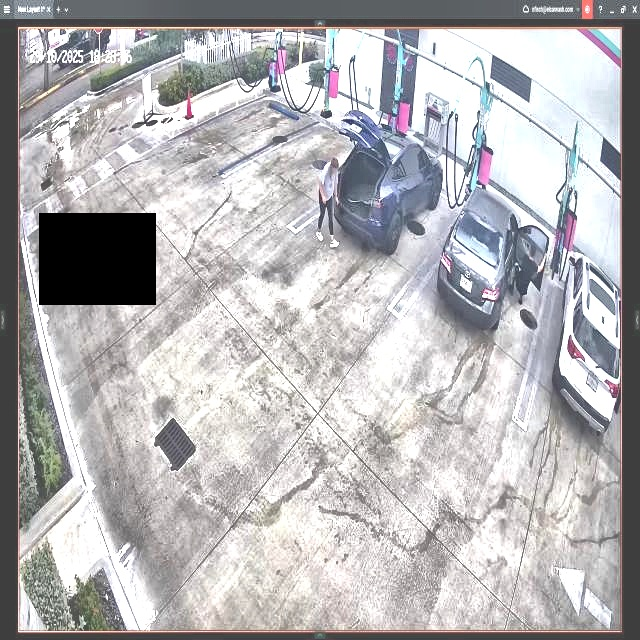Car: (335, 108, 443, 246), (437, 189, 543, 319)
